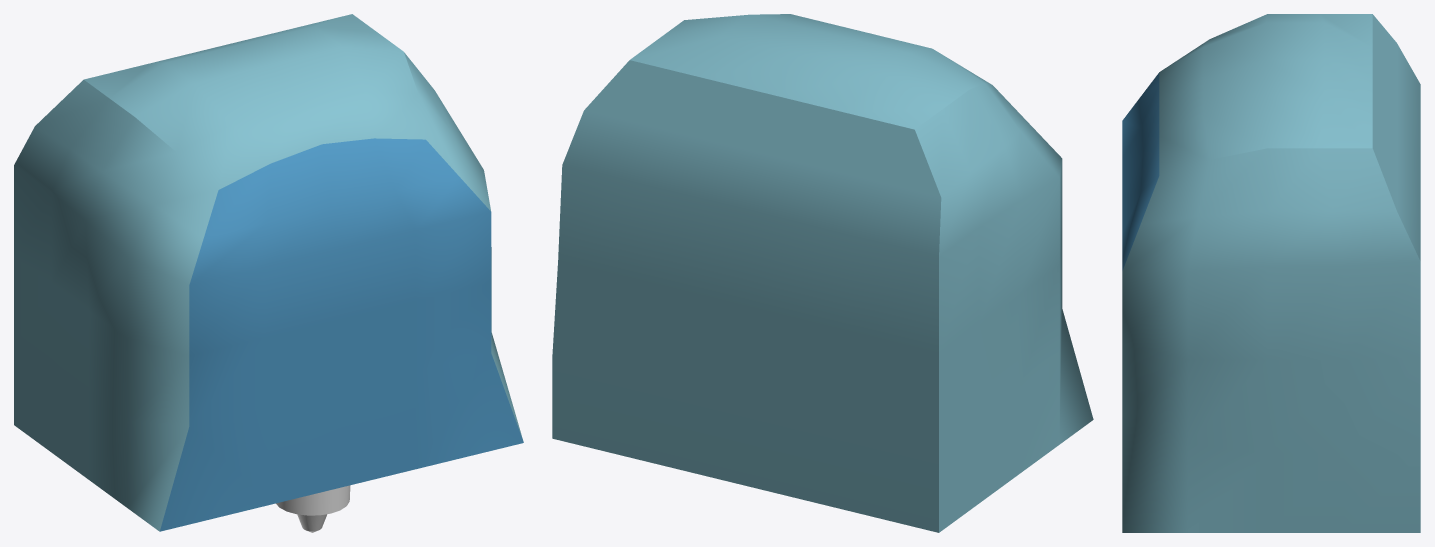
Rendered from cube_asset.fbx.
The picture shows the model from 3 angles, left to right: view 1: azimuth 30°, elevation 25°; view 2: azimuth 150°, elevation 25°; view 3: azimuth 270°, elevation 25°; orthographic projection. The views are drawn at different scales.
Visible parts, largest first — view 1: banana; view 2: banana; view 3: banana.
Boxes of the visible parts, x1,y1,x2,y2 form: banana: (14,14,523,532); banana: (552,14,1093,532); banana: (1122,14,1420,532).
Bounding box in the file's own units: 1.57 × 1.78 × 1.07.
